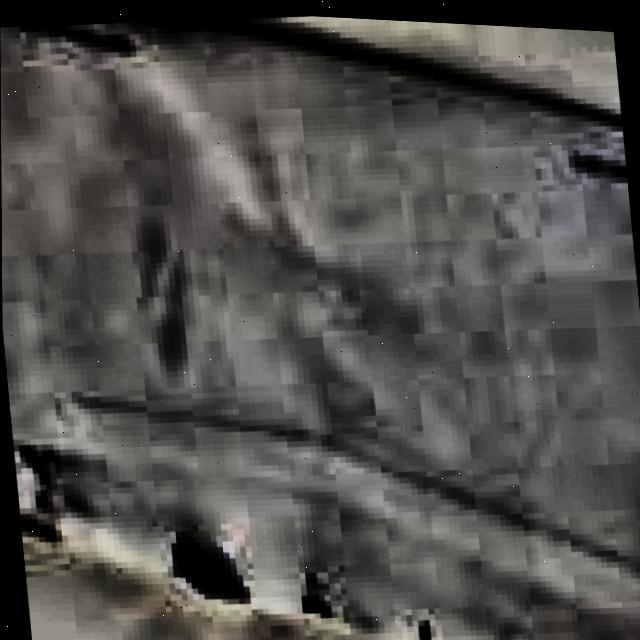paper: (0, 16, 640, 640)
